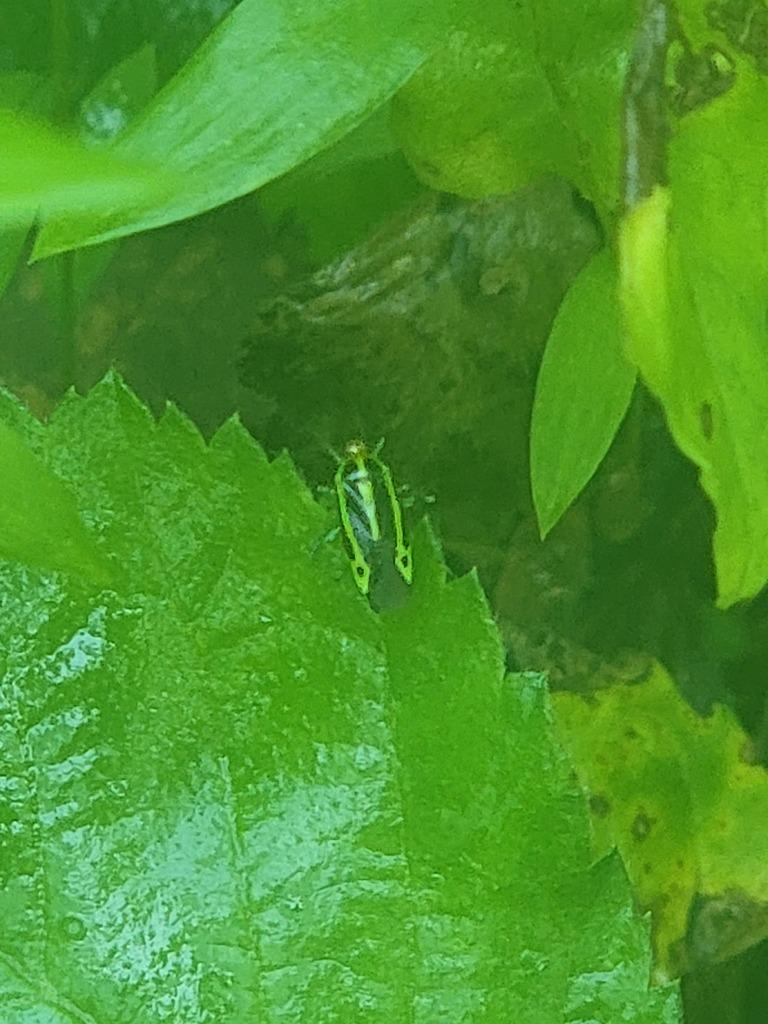plant_bugs: (281, 406, 466, 623)
